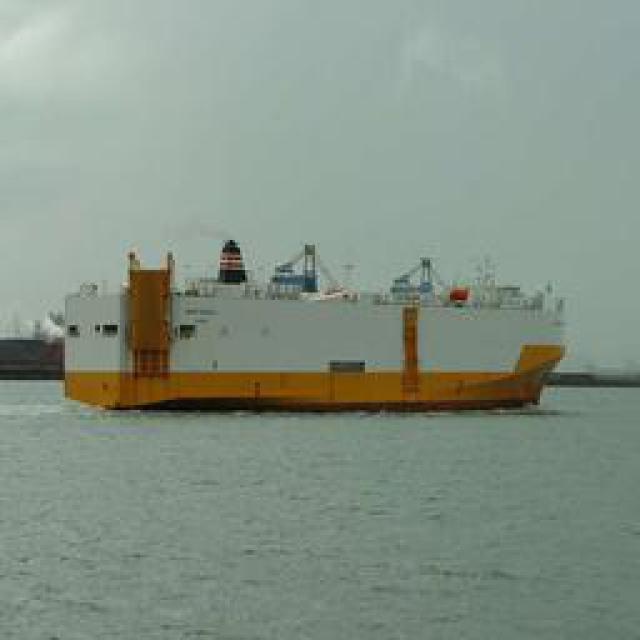Ship: (60, 242, 570, 415)
